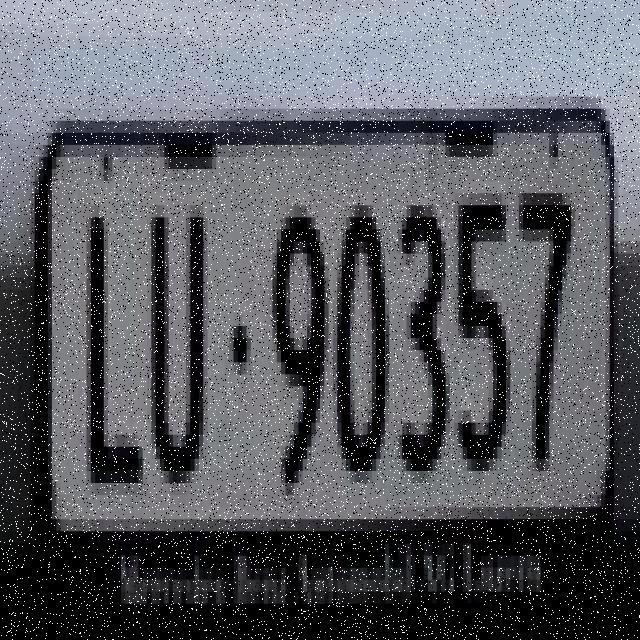LicensePlate: (33, 65, 625, 626)
